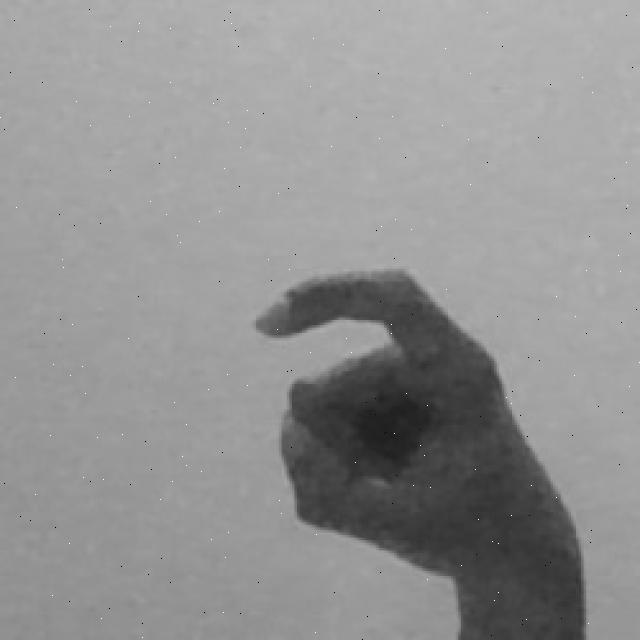X: (248, 261, 596, 640)
